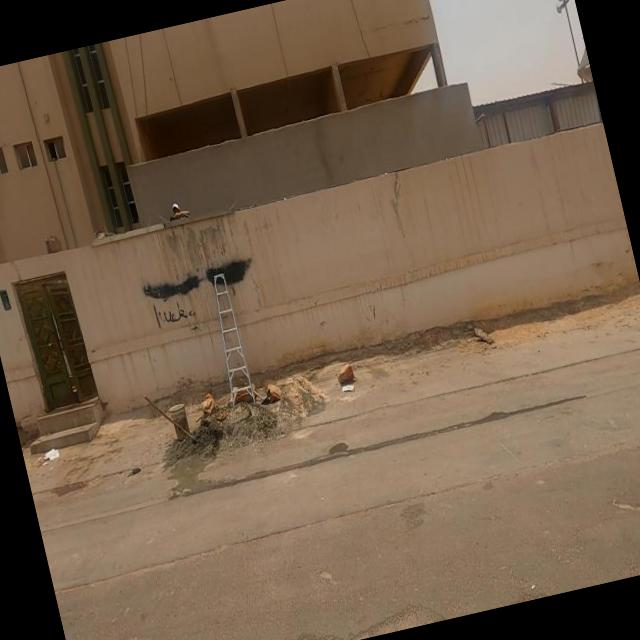debris: (165, 325, 274, 465), (120, 262, 235, 384), (216, 324, 324, 448), (294, 314, 401, 420), (13, 399, 108, 506)
